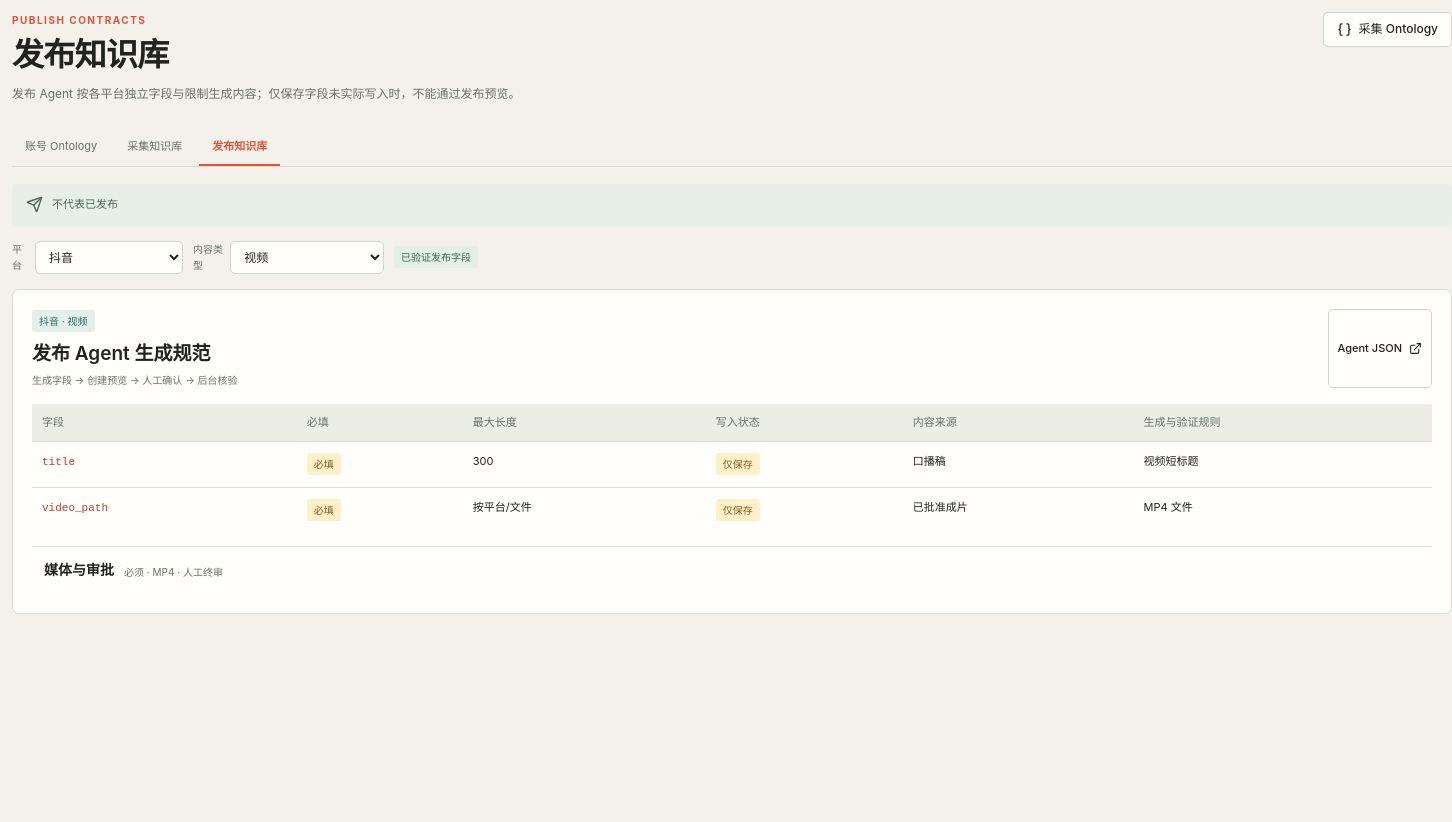
Test: PublishKnowledge › shows publish fields and agent machine contract
Expected: the heading "发布知识库" is shown, [12,37,168,73]
Expected: the text "视频短标题" is shown, [1134,442,1432,487]
Select "公众号" in the dropdown labelled "平台" at (109, 258), box [35,241,183,274]
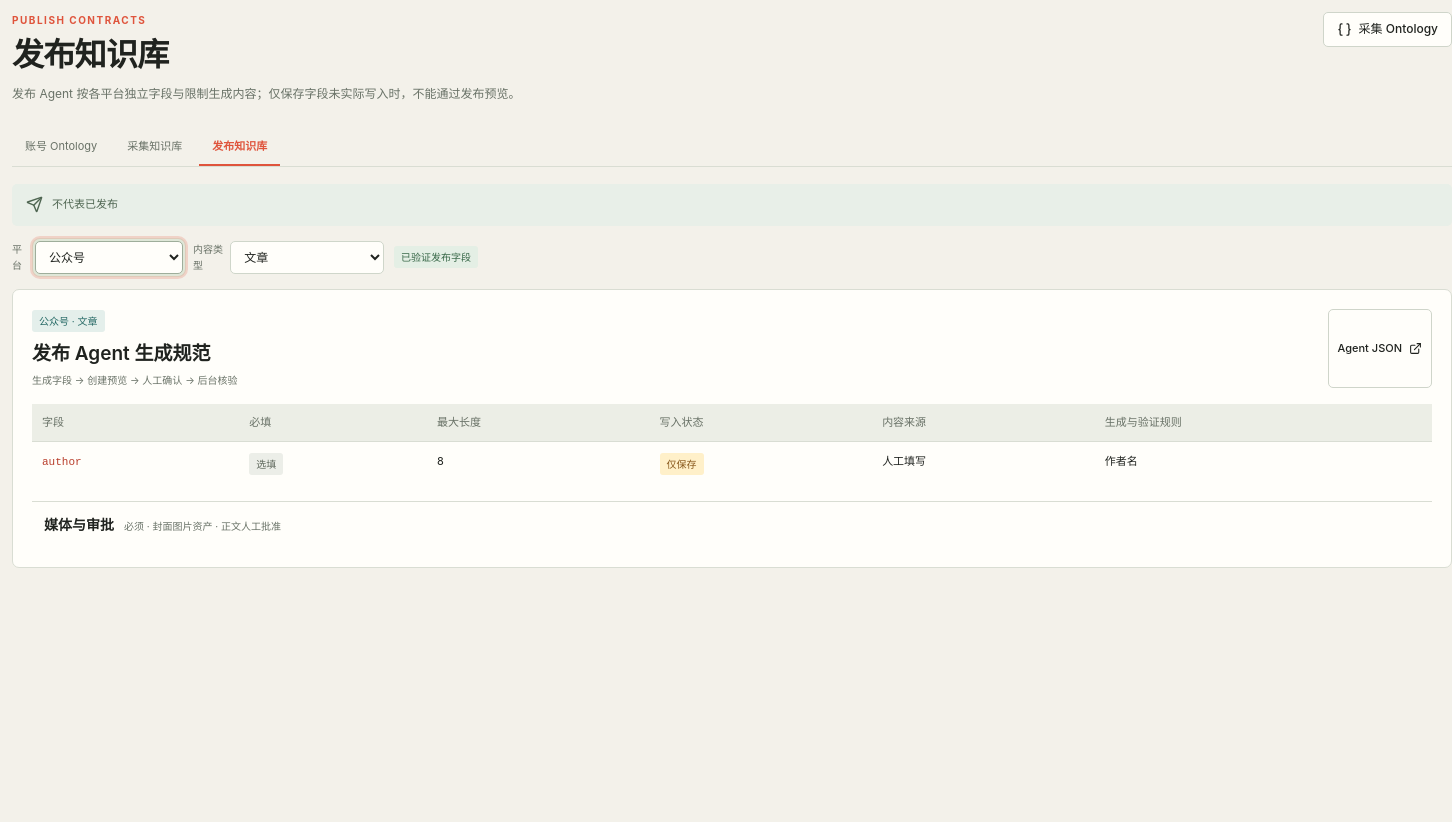
Result: the text "作者名" is shown at [1095,442,1432,487]
